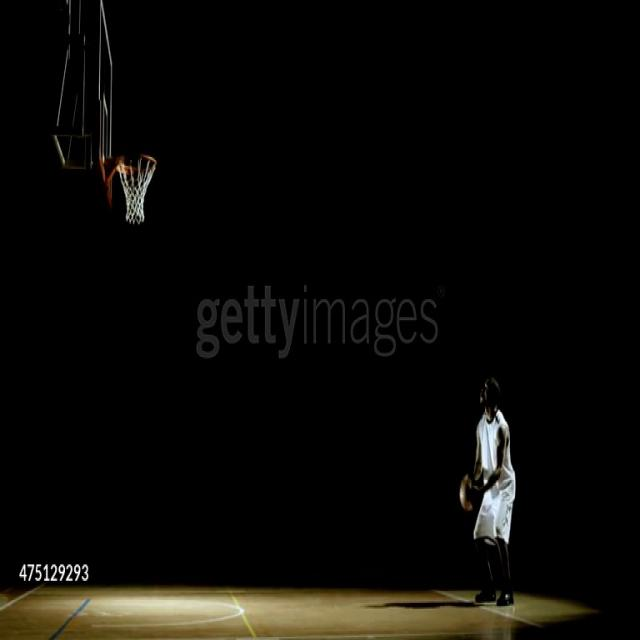ball: (458, 476, 480, 511)
